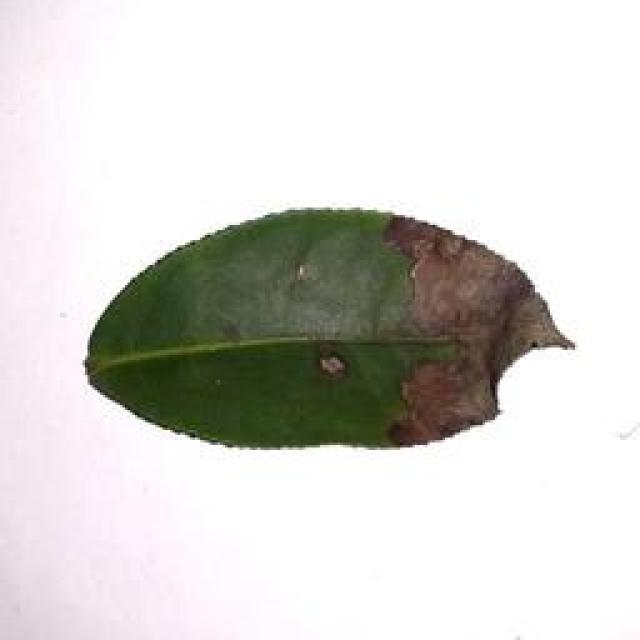Brown Blight: (76, 206, 575, 456)
